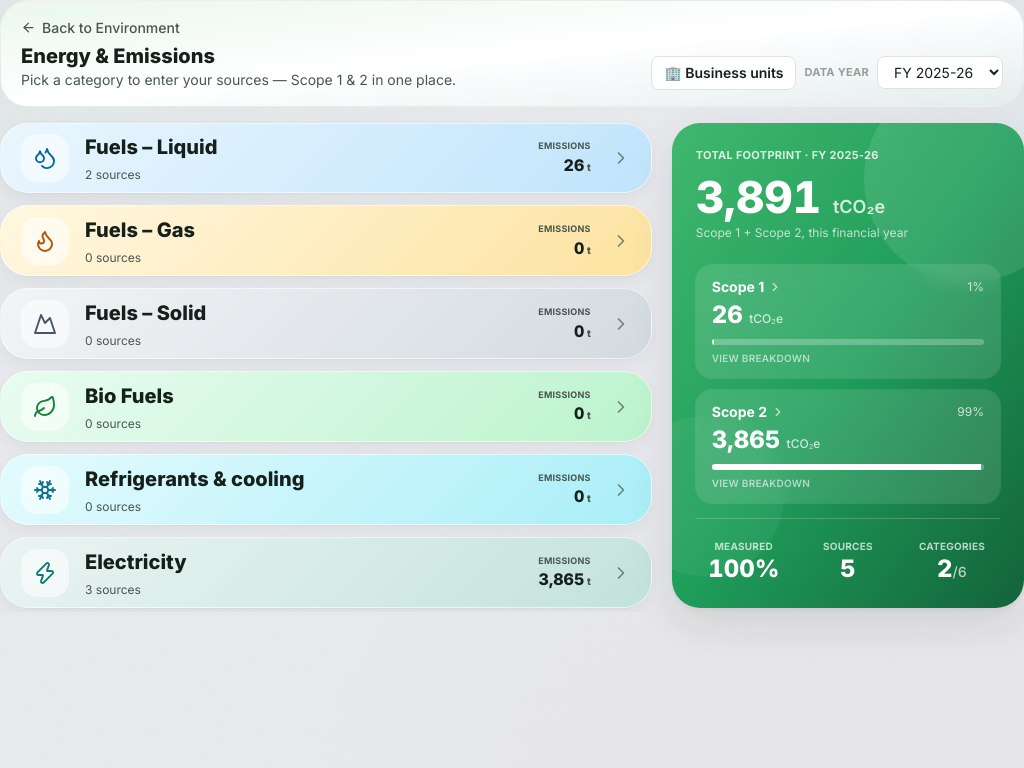
Test: ScopeScreen — Change 2: hide zero-raw-value rows › Scope 1 drill-down shows non-zero source and hides zero-volume source
The image size is (1024, 768).
Click the button with aria-label "Scope 1 details": (738, 286) [696, 265, 1000, 378]
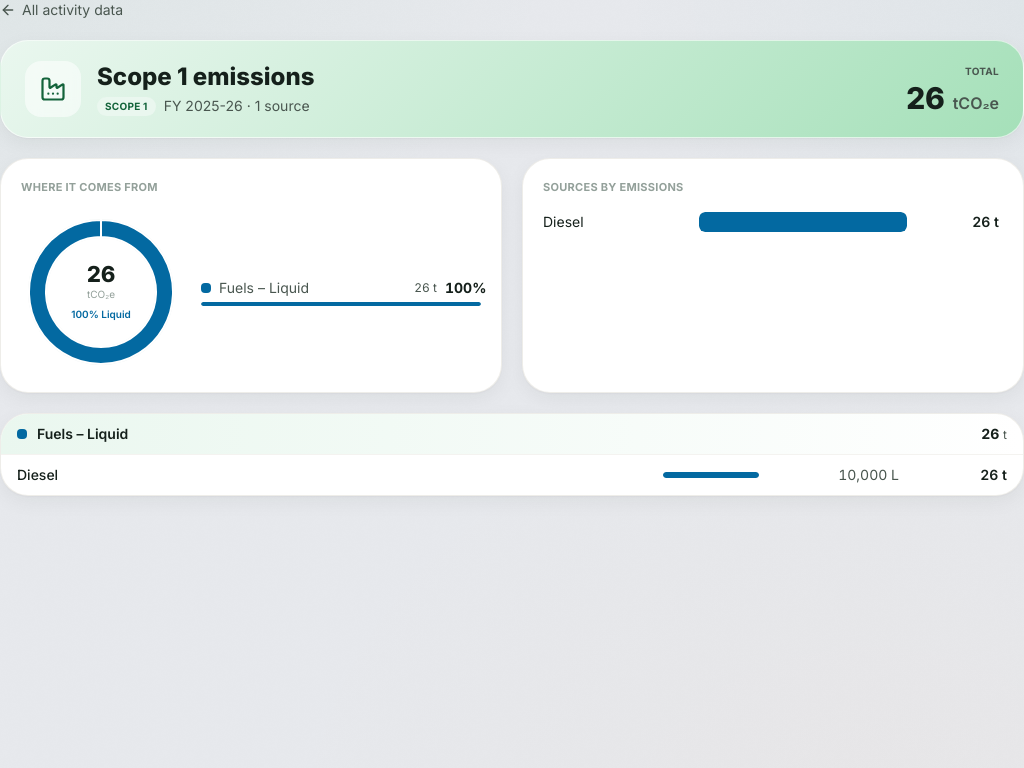
Expected: the text "Fuels – Liquid" below "Where it comes from" is shown, [219, 278, 309, 296]
Expected: the text "10,000 L" is shown, [838, 466, 899, 482]
